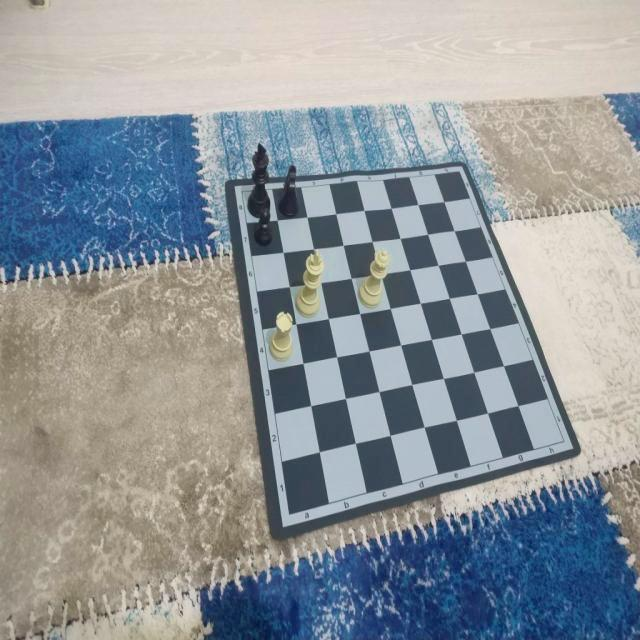chess-table-corners: (232, 183, 253, 204), (280, 503, 300, 523), (450, 161, 465, 182), (555, 432, 572, 450)
